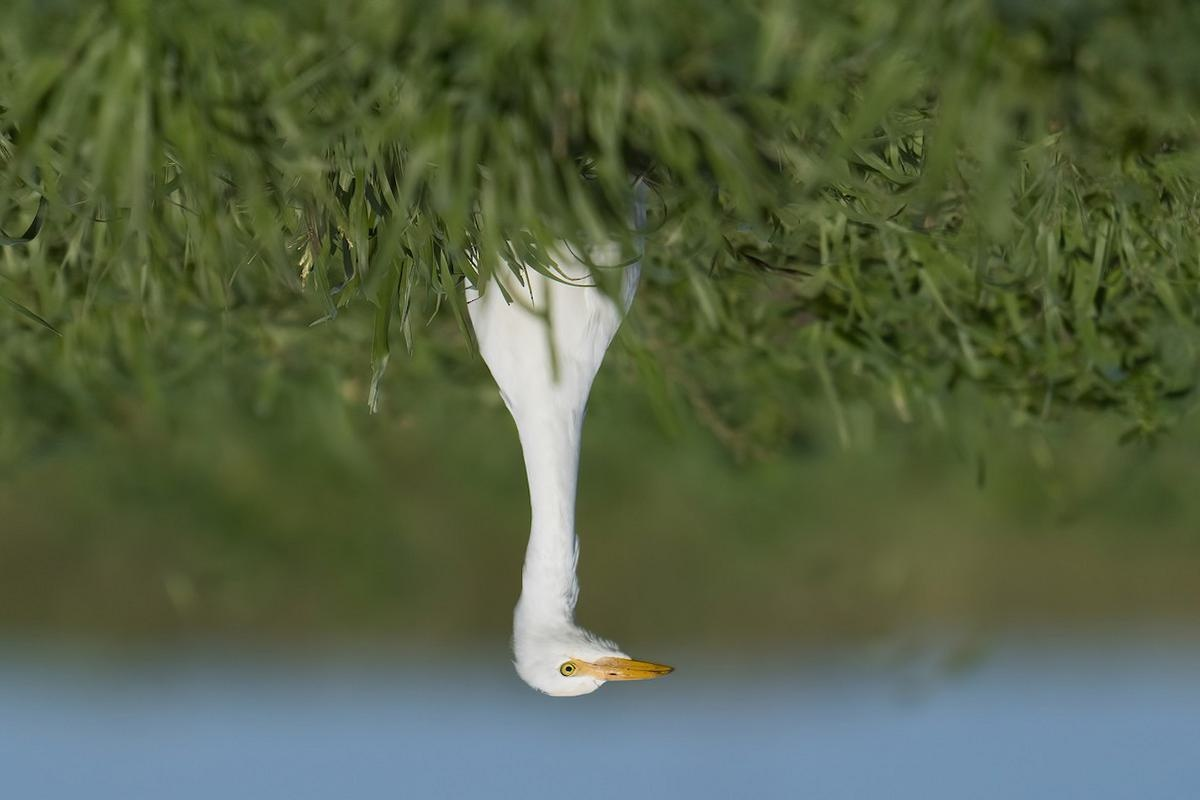egret: (441, 229, 698, 708)
